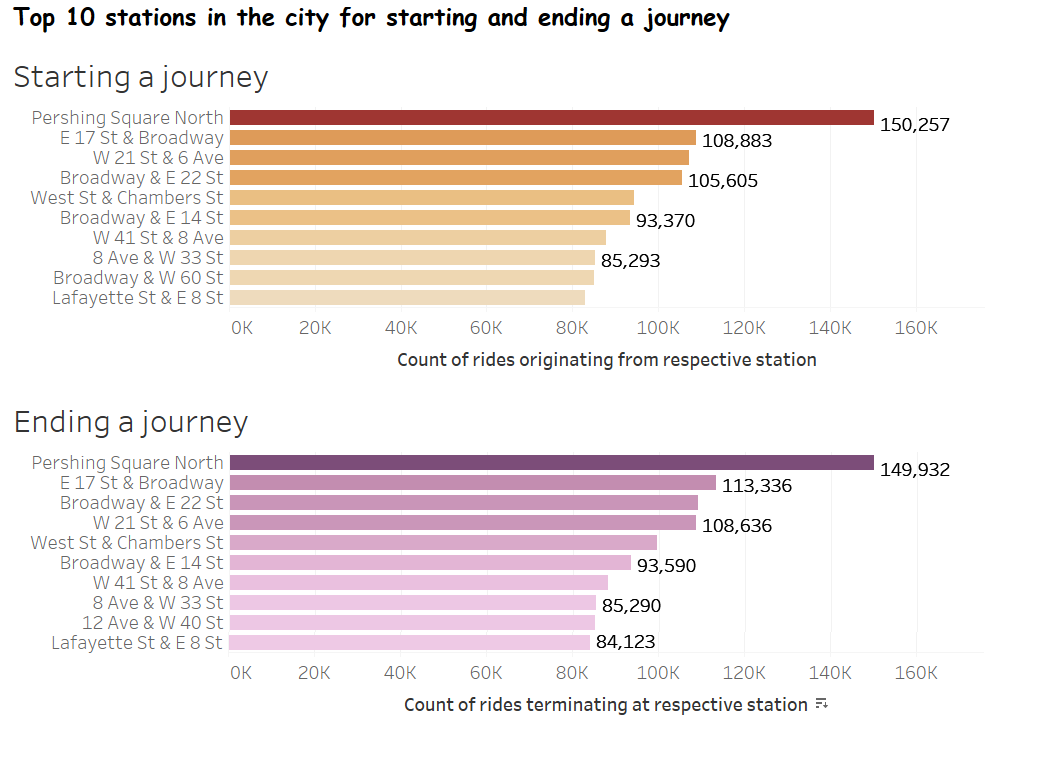

What the dashboard file says about the page in this screenshot:
{"tool":"tableau","page":{"name":"Top 10 Stations","canvas":[1000,800],"ordinal":2},"visuals":[{"type":"text","box":[8,8,984,61]},{"type":"worksheet","title":"Top_stn_start_jrny","mark":"Automatic","rows":["start station name"],"cols":["start station name"],"box":[8,69,984,345]},{"type":"worksheet","title":"Top_stn_end_jrny","mark":"Automatic","rows":["end station name"],"cols":["end station name"],"box":[8,414,984,378]}]}

Visuals, with their boxes on the page's 1000x800 design canvas (x1, y1, x2, y2). These are canvas units, not pixel positions in the 1056x757 screenshot, which may show the page scaled, cropped or inside an application window:
text: select_region(8, 8, 992, 69)
"Top_stn_start_jrny" worksheet: select_region(8, 69, 992, 414)
"Top_stn_end_jrny" worksheet: select_region(8, 414, 992, 792)
